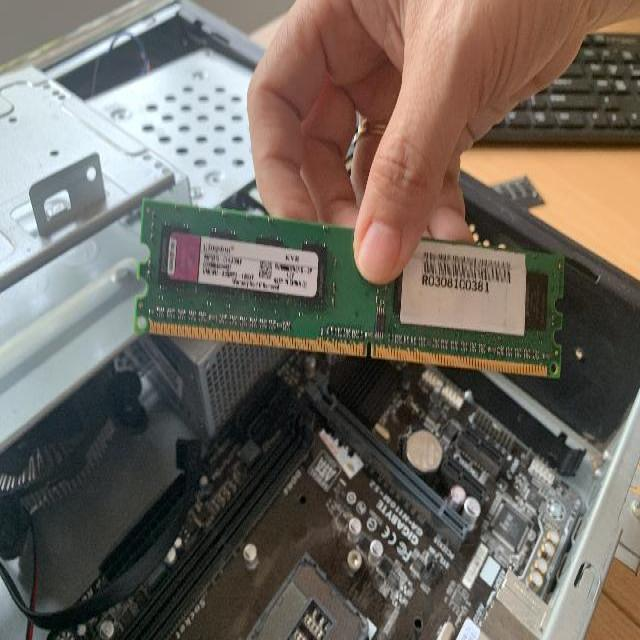RAM: (129, 193, 566, 379)
